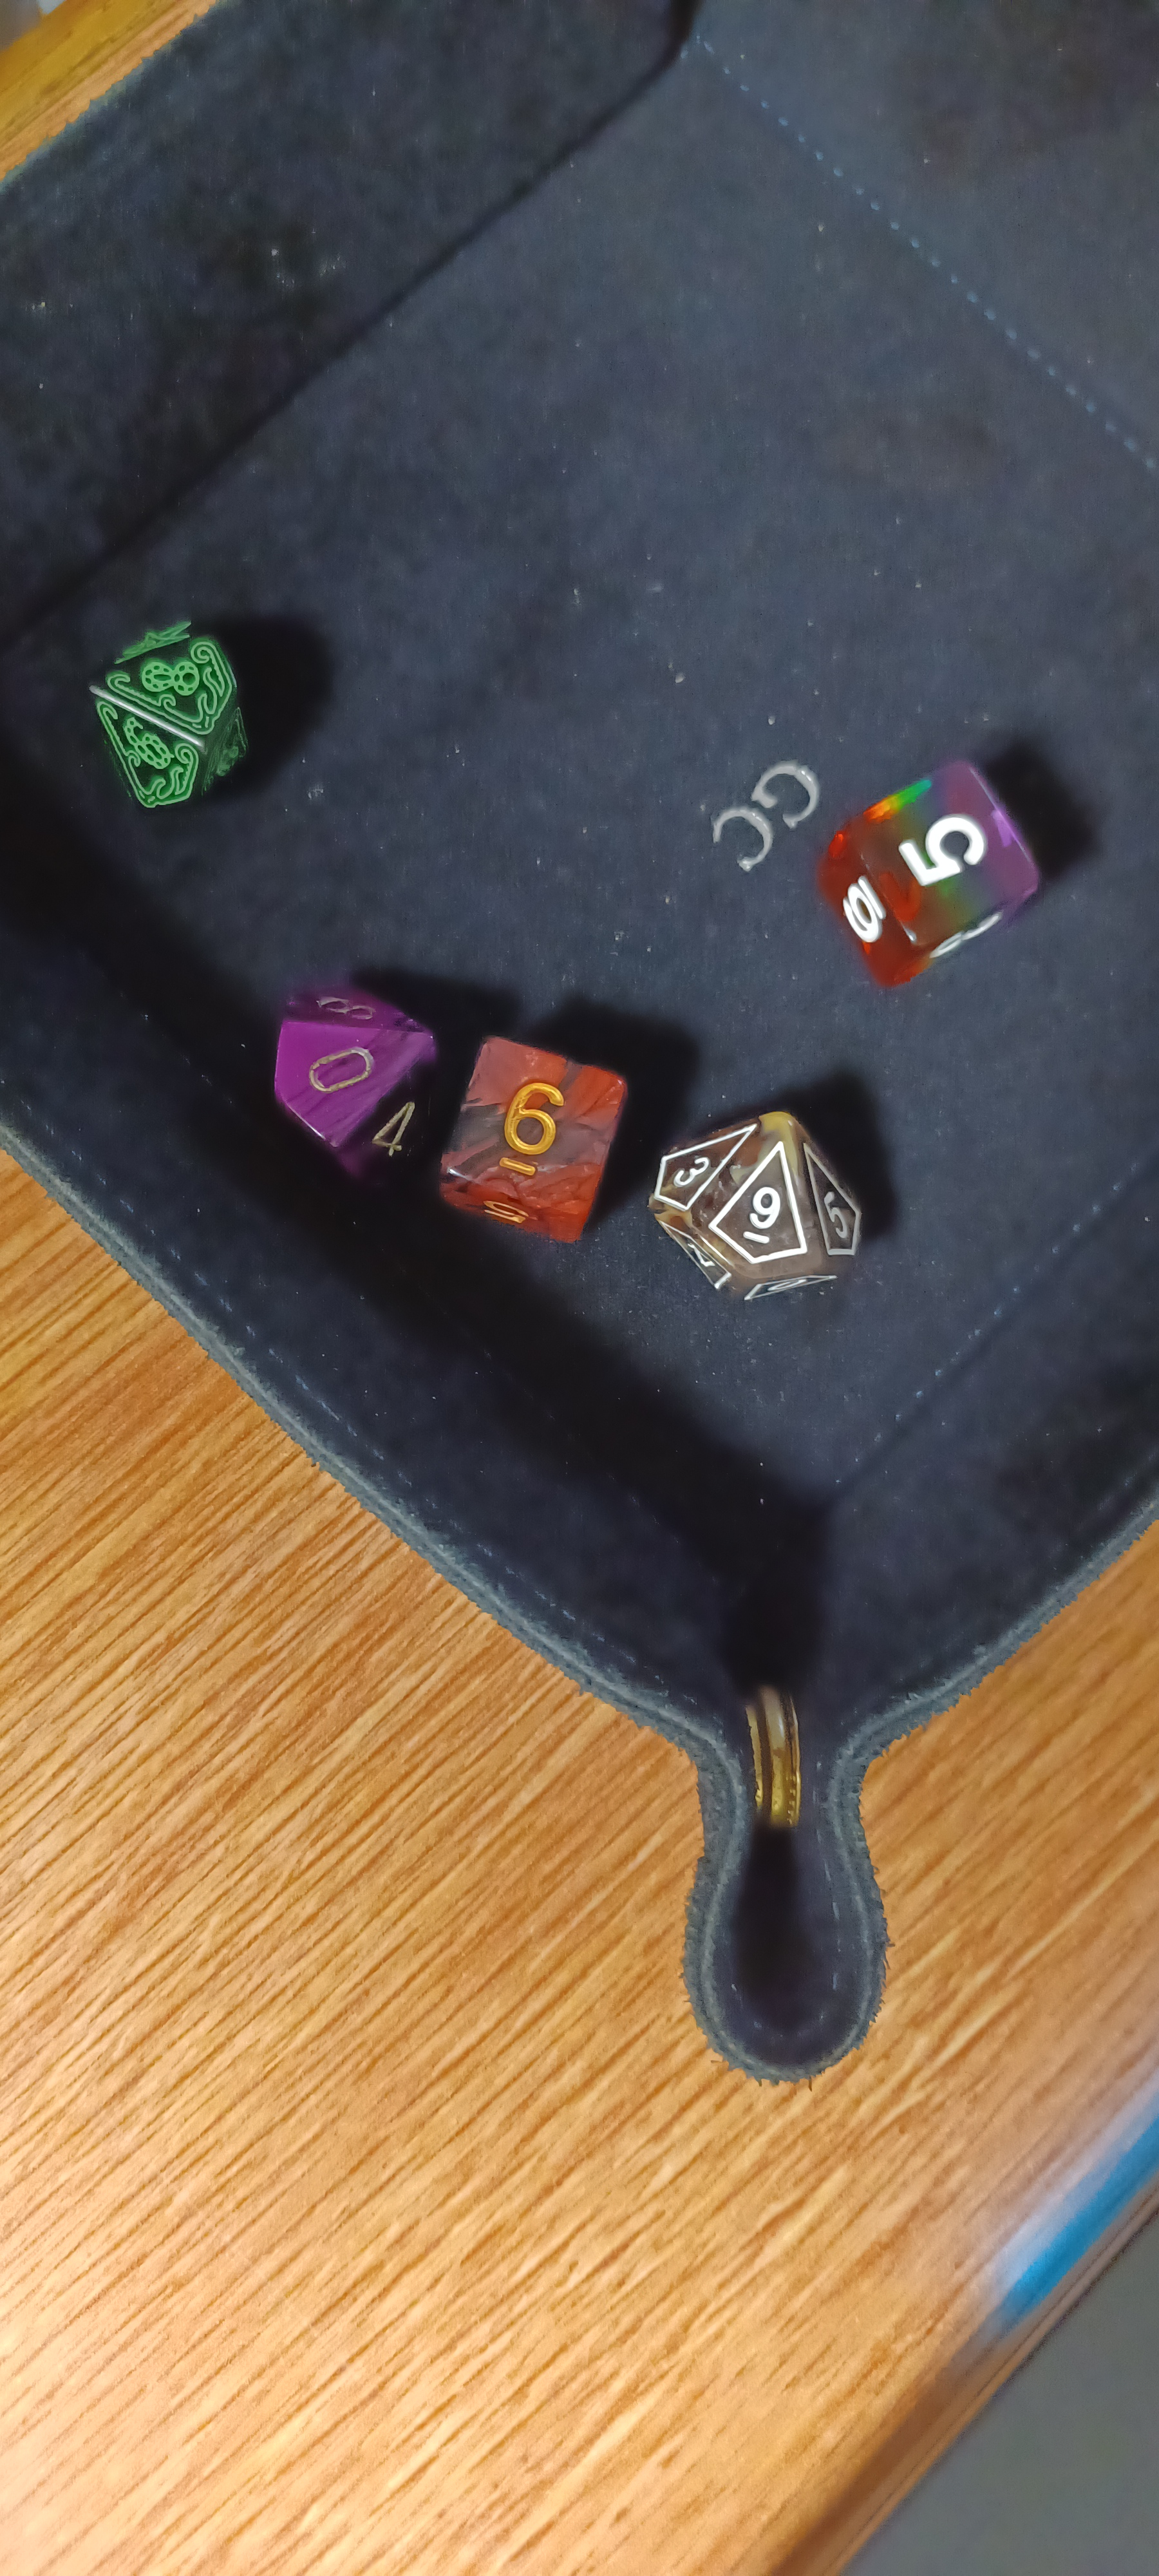eight: (57, 590, 295, 826)
five: (809, 713, 1059, 1010)
nine: (648, 1058, 883, 1329)
six: (435, 1007, 645, 1280)
zero: (228, 959, 471, 1217)
